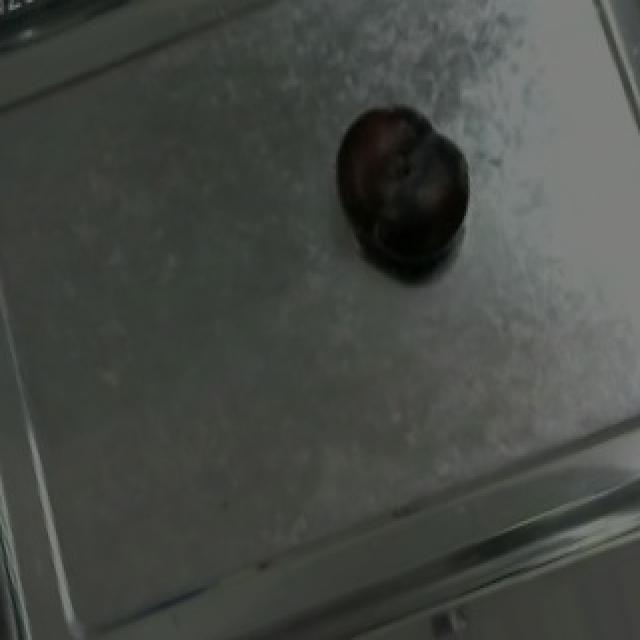Fruit: (314, 87, 482, 278)
